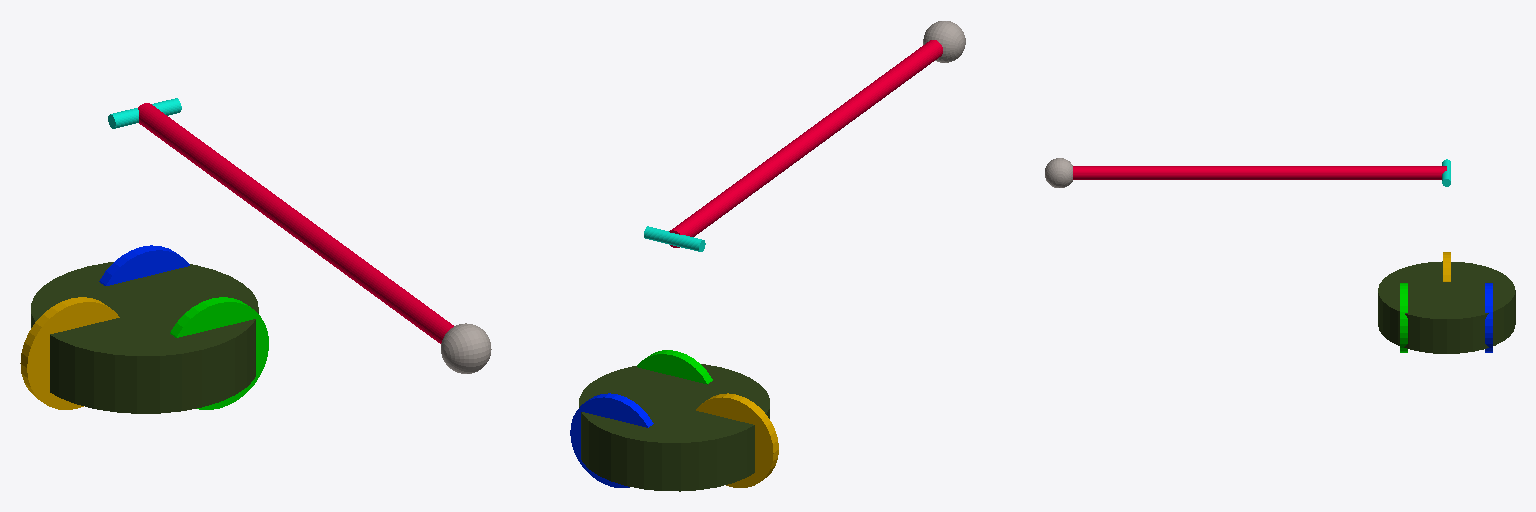
URDF robot description (omniwheel):
<?xml version="1.0"?>
<robot name="omniwheel">
  <link name="base_footprint"/>

  <joint name="base_footprint_joint" type="fixed">
    <origin xyz="0 0 0" rpy="0 0 0"/>
    <parent link="base_footprint"/>
    <child link="base_link"/>
  </joint>

  <link name="base_link">
    <visual>
      <origin xyz="0 0 0.10" rpy="0 0 0"/>
      <geometry>
        <cylinder radius="0.18" length="0.10"/>
      </geometry>
      <material name="base_green">
        <color rgba="0.23 0.30 0.14 1.0"/>
      </material>
    </visual>
  </link>

  <link name="Wheel1_Link"/>
  <joint name="Wheel1_Joint" type="fixed">
    <origin xyz="0.06425 -0.111284 0.101" rpy="0 0 0"/>
    <parent link="base_link"/>
    <child link="Wheel1_Link"/>
  </joint>

  <link name="Wheel_1">
    <visual>
      <origin xyz="0 0 0" rpy="1.57079632679 0 0"/>
      <geometry>
        <cylinder radius="0.09175" length="0.02075"/>
      </geometry>
      <material name="wheel_right">
        <color rgba="0.0 0.85 0.0 1.0"/>
      </material>
    </visual>
  </link>
  <joint name="Wheel_1_RotJoint" type="continuous">
    <origin xyz="0 0 0" rpy="0 0 0"/>
    <parent link="Wheel1_Link"/>
    <child link="Wheel_1"/>
    <axis xyz="0 0 -1"/>
  </joint>

  <link name="Wheel2_Link"/>
  <joint name="Wheel2_Joint" type="fixed">
    <origin xyz="0.06425 0.111284 0.101" rpy="0 0 0"/>
    <parent link="base_link"/>
    <child link="Wheel2_Link"/>
  </joint>

  <link name="Wheel2">
    <visual>
      <origin xyz="0 0 0" rpy="1.57079632679 0 0"/>
      <geometry>
        <cylinder radius="0.09175" length="0.02075"/>
      </geometry>
      <material name="wheel_left">
        <color rgba="0.0 0.2 1.0 1.0"/>
      </material>
    </visual>
  </link>
  <joint name="Wheel_2_RotJoint" type="continuous">
    <origin xyz="0 0 0" rpy="0 0 0"/>
    <parent link="Wheel2_Link"/>
    <child link="Wheel2"/>
    <axis xyz="0 0 -1"/>
  </joint>

  <link name="Wheel3_Link"/>
  <joint name="Wheel3_Joint" type="fixed">
    <origin xyz="-0.1285 0 0.101" rpy="0 0 0"/>
    <parent link="base_link"/>
    <child link="Wheel3_Link"/>
  </joint>

  <link name="Wheel3">
    <visual>
      <origin xyz="0 0 0" rpy="1.57079632679 0 0"/>
      <geometry>
        <cylinder radius="0.09175" length="0.02075"/>
      </geometry>
      <material name="wheel_back">
        <color rgba="0.85 0.65 0.0 1.0"/>
      </material>
    </visual>
  </link>
  <joint name="Wheel_3_RotJoint" type="continuous">
    <origin xyz="0 0 0" rpy="0 0 0"/>
    <parent link="Wheel3_Link"/>
    <child link="Wheel3"/>
    <axis xyz="0 0 -1"/>
  </joint>

  <link name="Pendulum_Cross_1">
    <visual>
      <origin xyz="0 0 0" rpy="0 1.57079632679 0"/>
      <geometry>
        <cylinder radius="0.012" length="0.12"/>
      </geometry>
      <material name="pendulum_joint">
        <color rgba="0.07 0.91 0.82 1.0"/>
      </material>
    </visual>
  </link>
  <joint name="Pendulum_Joint_1" type="revolute">
    <origin xyz="0 0 0.48833" rpy="-1.57079632679 0 0"/>
    <parent link="base_link"/>
    <child link="Pendulum_Cross_1"/>
    <axis xyz="0 0 -1"/>
    <limit lower="-0.2" upper="0.2" effort="0" velocity="1.0"/>
  </joint>

  <link name="Pendulum_Cross_2">
    <visual>
      <origin xyz="-0.5 0 0" rpy="0 1.57079632679 0"/>
      <geometry>
        <cylinder radius="0.018" length="1.0"/>
      </geometry>
      <material name="pendulum_arm">
        <color rgba="0.92 0.0 0.25 1.0"/>
      </material>
    </visual>
  </link>
  <joint name="Pendulum_Joint_2" type="revolute">
    <origin xyz="0 0 0" rpy="0 -1.57079632679 0"/>
    <parent link="Pendulum_Cross_1"/>
    <child link="Pendulum_Cross_2"/>
    <axis xyz="0 0 -1"/>
    <limit lower="-0.2" upper="0.2" effort="0" velocity="1.0"/>
  </joint>

  <link name="Pendulum_EE">
    <visual>
      <origin xyz="0 0 0" rpy="0 0 0"/>
      <geometry>
        <sphere radius="0.04"/>
      </geometry>
      <material name="pendulum_ee">
        <color rgba="0.69 0.66 0.64 1.0"/>
      </material>
    </visual>
  </link>
  <joint name="Pendulum_EE_joint" type="fixed">
    <origin xyz="-1.0125 0 0" rpy="0 0 0"/>
    <parent link="Pendulum_Cross_2"/>
    <child link="Pendulum_EE"/>
  </joint>
</robot>

--- Render facts (derived) ---
3 views of the same robot in one strip: view 1: azimuth 30°, elevation 25°; view 2: azimuth 150°, elevation 25°; view 3: azimuth 270°, elevation 25° (orthographic).
Robot: omniwheel — 11 links, 10 joints (2 revolute, 3 continuous, 5 fixed); root link base_footprint; default pose: every joint at zero.
Links seen in each view (by area): view 1: base_link, Pendulum_Cross_2, Wheel3, Wheel_1, Wheel2, Pendulum_EE, Pendulum_Cross_1; view 2: base_link, Pendulum_Cross_2, Wheel3, Wheel2, Wheel_1, Pendulum_EE, Pendulum_Cross_1; view 3: base_link, Pendulum_Cross_2, Pendulum_EE, Wheel_1, Wheel2.
Boxes of the visible links, left/top/right/bottom form: base_link: left=31, top=262, right=258, bottom=413; Pendulum_Cross_2: left=138, top=103, right=453, bottom=343; Wheel3: left=20, top=297, right=119, bottom=409; Wheel_1: left=170, top=297, right=268, bottom=409; Wheel2: left=99, top=245, right=189, bottom=285; Pendulum_EE: left=441, top=323, right=491, bottom=373; Pendulum_Cross_1: left=108, top=98, right=181, bottom=128; base_link: left=579, top=364, right=769, bottom=491; Pendulum_Cross_2: left=669, top=40, right=942, bottom=247; Wheel3: left=696, top=393, right=778, bottom=487; Wheel2: left=570, top=393, right=653, bottom=487; Wheel_1: left=637, top=350, right=712, bottom=384; Pendulum_EE: left=923, top=21, right=965, bottom=62; Pendulum_Cross_1: left=644, top=226, right=705, bottom=251; base_link: left=1378, top=261, right=1515, bottom=353; Pendulum_Cross_2: left=1073, top=166, right=1446, bottom=179; Pendulum_EE: left=1045, top=158, right=1072, bottom=187; Wheel_1: left=1400, top=283, right=1407, bottom=352; Wheel2: left=1485, top=283, right=1492, bottom=352.
Size in the robot's own frame: 0.4003 by 1.23 by 0.5191 metres.
Geometry: primitives only (box / cylinder / sphere), no mesh files.
